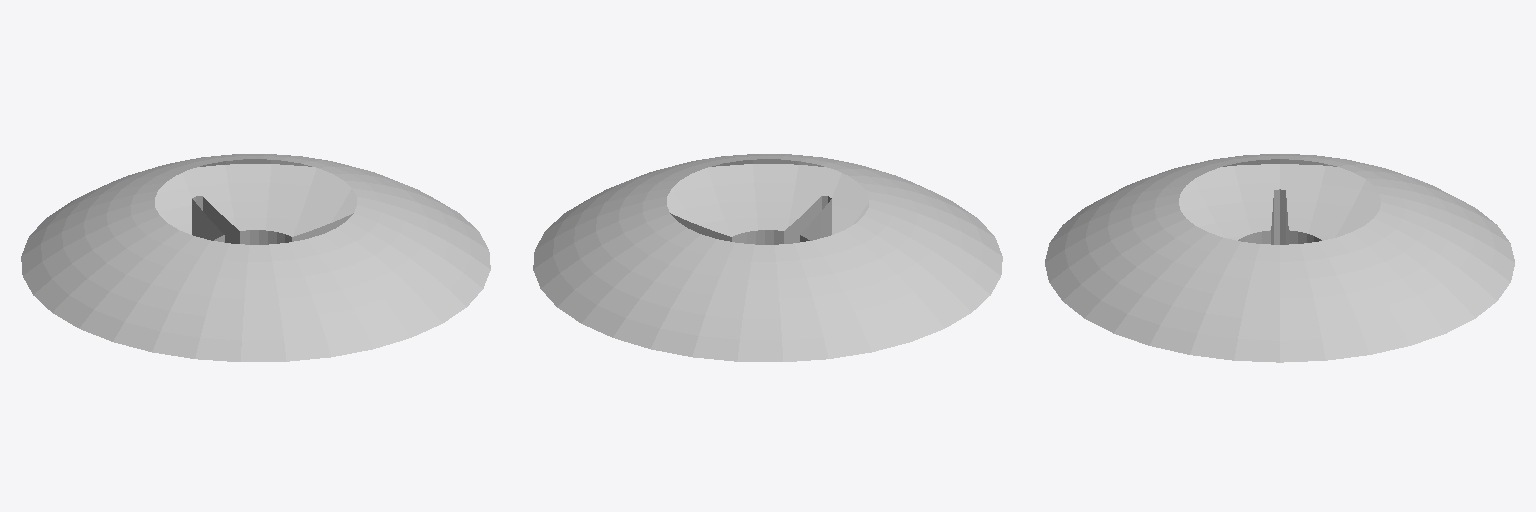
File: PE_UFO_Body.obj
The picture shows the model from 3 angles: view 1: azimuth 30°, elevation 25°; view 2: azimuth 150°, elevation 25°; view 3: azimuth 270°, elevation 25°; orthographic projection.
Parts seen in each view (by area): view 1: PE_UFO_Body; view 2: PE_UFO_Body; view 3: PE_UFO_Body.
Boxes of the visible parts, x1,y1,x2,y2 form: PE_UFO_Body: [21, 154, 490, 361]; PE_UFO_Body: [533, 154, 1002, 361]; PE_UFO_Body: [1045, 154, 1514, 362].
Bounding box in the file's own units: 20 × 5.06 × 20.